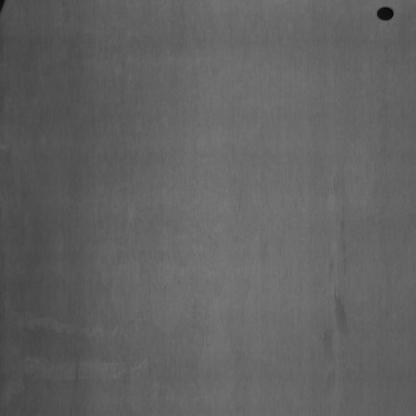oil_spot: (321, 283, 349, 372)
punching_hole: (376, 4, 396, 23)
